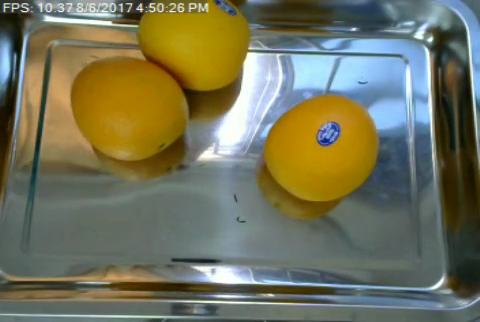Orange: (70, 56, 189, 163), (263, 92, 377, 202), (135, 0, 249, 90)
